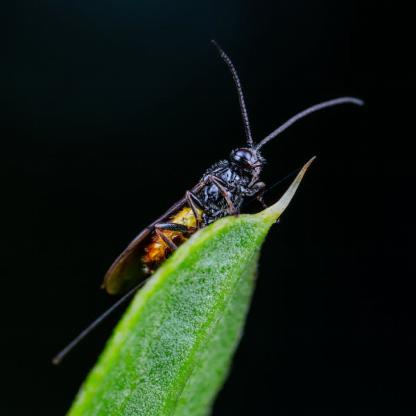sawfly: (47, 38, 368, 354)
